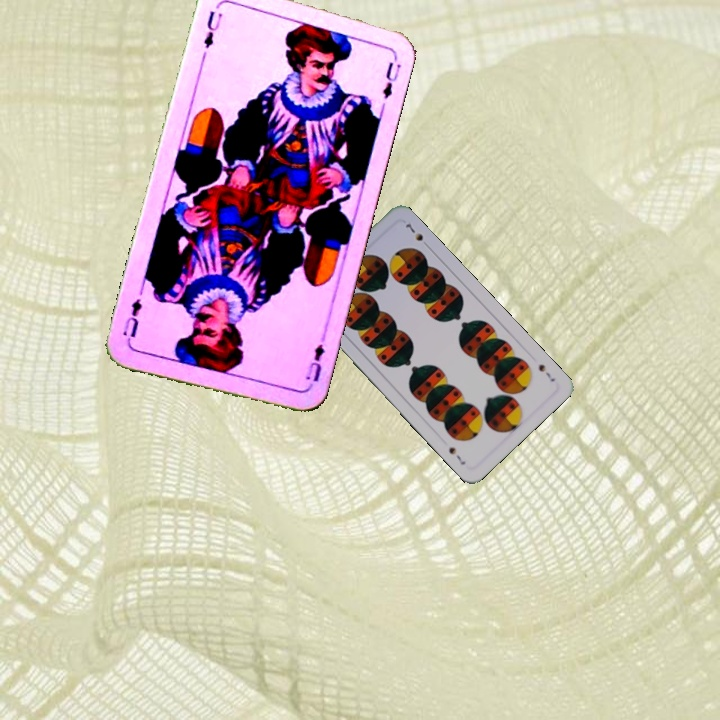EU: (301, 332, 328, 391), (199, 7, 225, 51)
S7: (534, 360, 558, 384)
